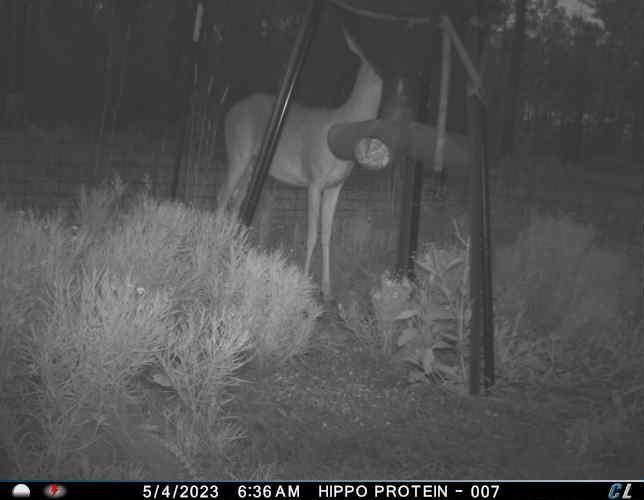Deer: (220, 24, 385, 305)
